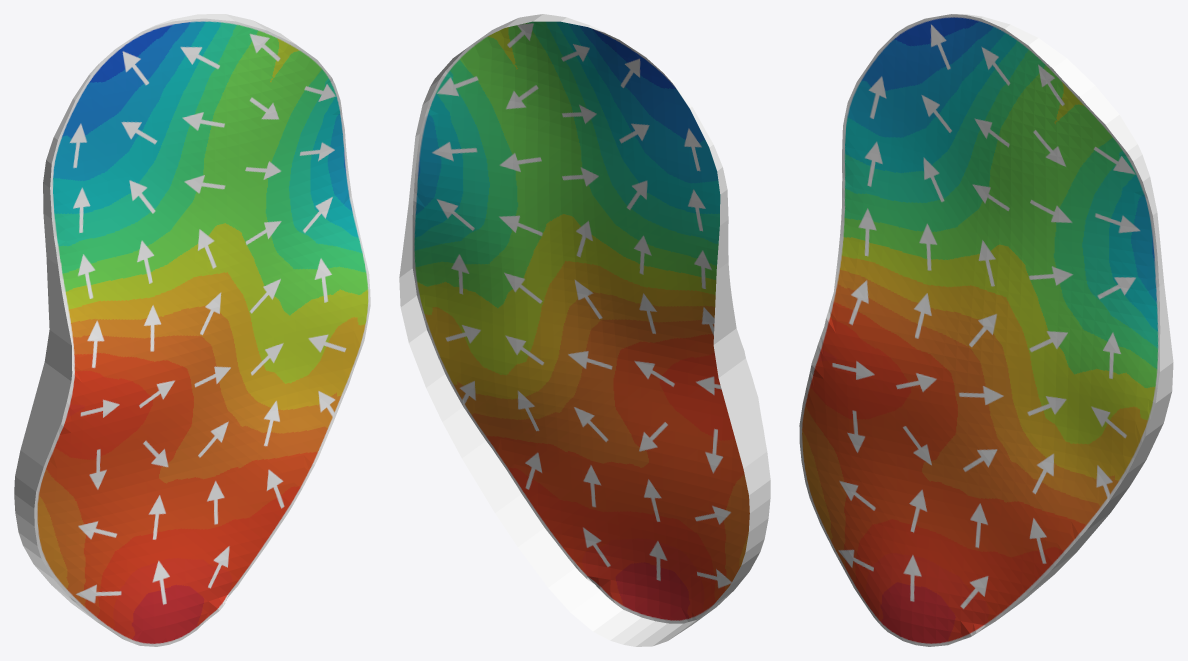
3 views of the same model, side by side, from view 1: azimuth 30°, elevation 25°; view 2: azimuth 150°, elevation 25°; view 3: azimuth 330°, elevation 25° (orthographic). The views are drawn at different scales.
Bounding box in the file's own units: 2.89 × 4.8 × 0.4647.
Materials: 2 (1 with a texture image).
